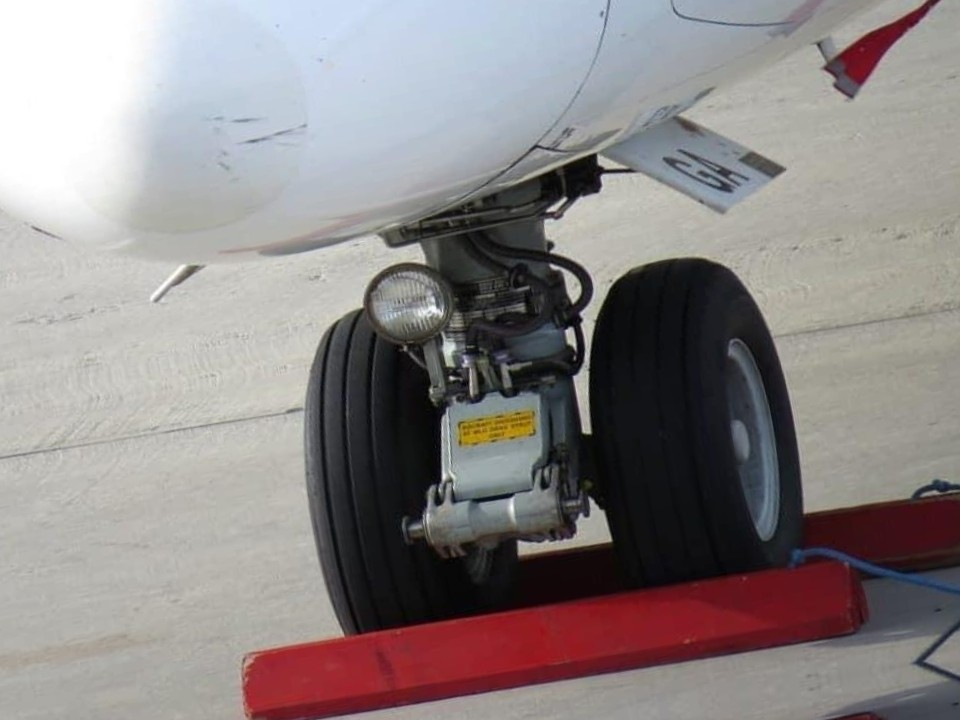chock: (225, 527, 880, 720), (462, 461, 960, 655)
wheel: (559, 240, 821, 601), (272, 284, 518, 643)
